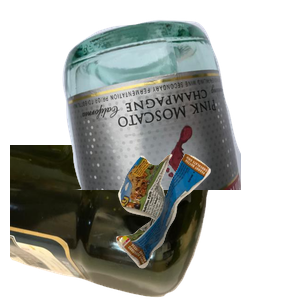glass: (60, 17, 300, 197)
metal: (60, 82, 300, 262)
plastic: (10, 145, 213, 300)
trash: (114, 151, 300, 300)
